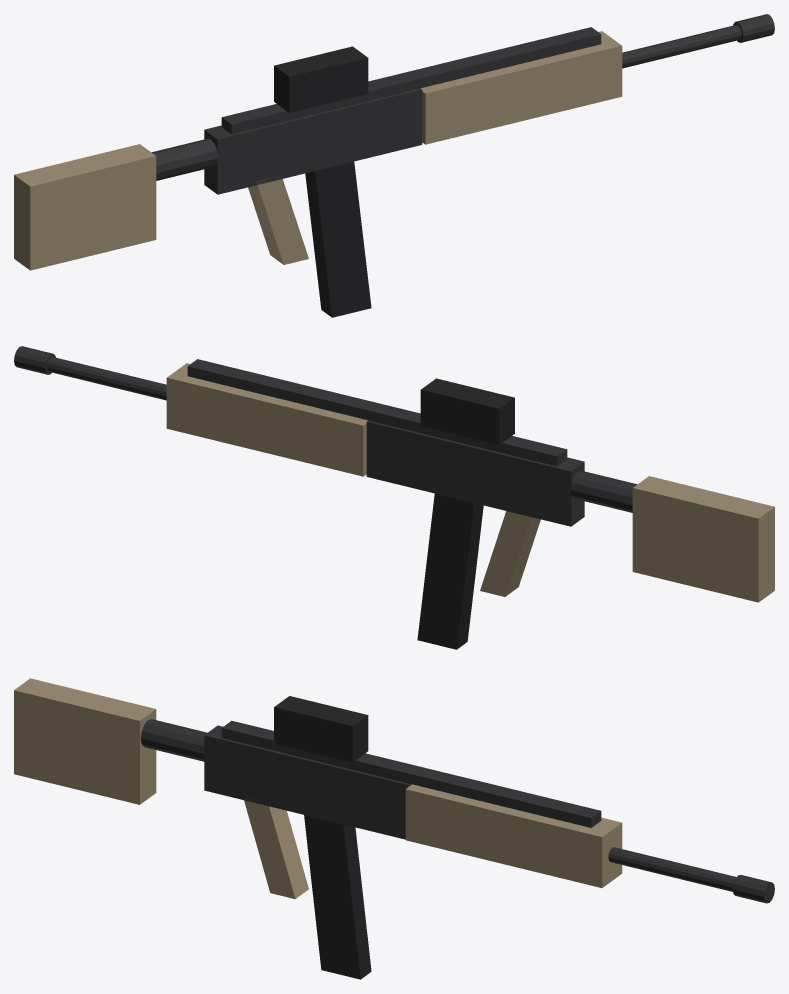
File: gun_ar_c3.glb
3 renders of one model, top to bottom at view 1: azimuth 30°, elevation 25°; view 2: azimuth 150°, elevation 25°; view 3: azimuth 330°, elevation 25°, orthographic.
Parts seen in each view (by area): view 1: stock, receiver, handguard, magazine, rail, optic, grip, barrel, buffer, muzzle; view 2: stock, receiver, handguard, magazine, rail, optic, grip, barrel, buffer, muzzle; view 3: stock, handguard, receiver, magazine, rail, optic, grip, barrel, buffer, muzzle.
Part boxes in pixels (left/top/right/bottom): stock: left=14, top=144, right=156, bottom=270; receiver: left=204, top=88, right=422, bottom=194; handguard: left=421, top=31, right=622, bottom=144; magazine: left=305, top=161, right=371, bottom=317; rail: left=221, top=27, right=601, bottom=134; optic: left=274, top=46, right=368, bottom=112; grip: left=248, top=177, right=308, bottom=264; barrel: left=622, top=25, right=741, bottom=68; buffer: left=151, top=138, right=218, bottom=180; muzzle: left=733, top=14, right=774, bottom=42; stock: left=632, top=476, right=774, bottom=602; receiver: left=366, top=420, right=584, bottom=526; handguard: left=166, top=363, right=367, bottom=476; magazine: left=417, top=493, right=483, bottom=649; rail: left=187, top=359, right=567, bottom=466; optic: left=420, top=378, right=514, bottom=444; grip: left=480, top=511, right=540, bottom=596; barrel: left=47, top=357, right=166, bottom=400; buffer: left=570, top=470, right=637, bottom=512; muzzle: left=14, top=346, right=55, bottom=374; stock: left=14, top=678, right=156, bottom=804; handguard: left=405, top=784, right=622, bottom=887; receiver: left=204, top=725, right=411, bottom=839; magazine: left=304, top=815, right=371, bottom=979; rail: left=221, top=720, right=601, bottom=827; optic: left=274, top=696, right=368, bottom=762; grip: left=243, top=796, right=308, bottom=899; barrel: left=608, top=847, right=736, bottom=891; buffer: left=140, top=719, right=207, bottom=761; muzzle: left=732, top=875, right=774, bottom=903.
Bounding box in the file's own units: 0.95 × 0.308 × 0.044.
